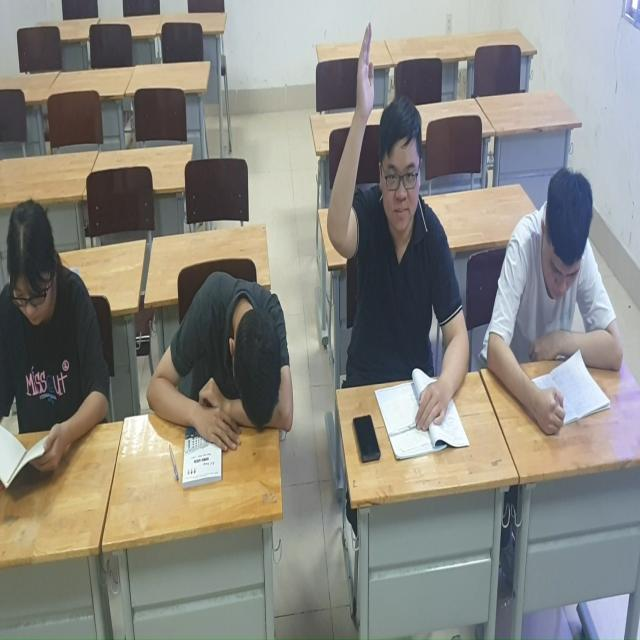raise_hand: (330, 21, 471, 447)
read: (486, 156, 635, 438), (2, 200, 111, 474)
sleep: (147, 276, 296, 468)
